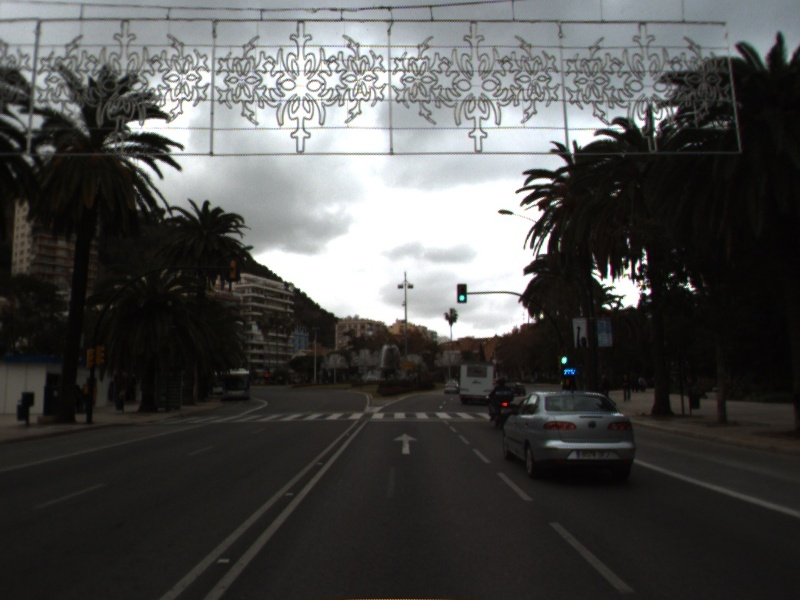STRAIGHT: (391, 431, 420, 456)
